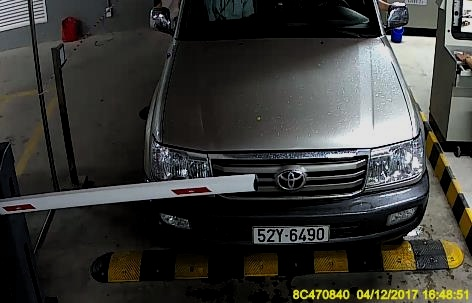plate: (250, 221, 333, 245)
